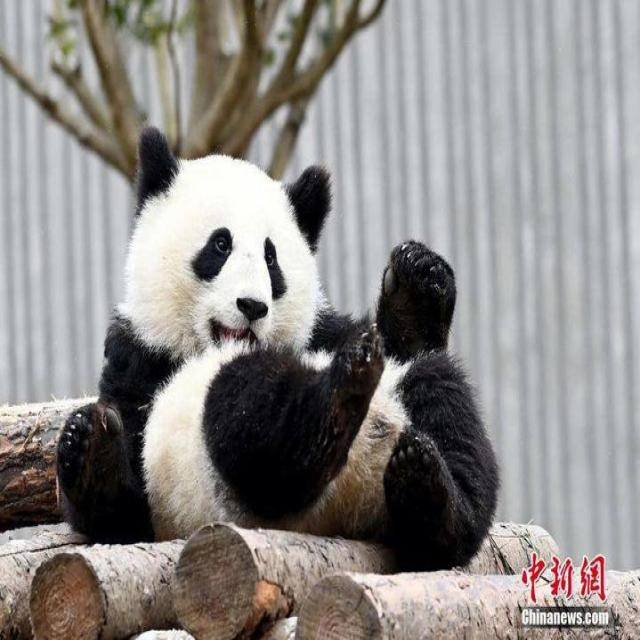panda: (53, 120, 504, 580)
